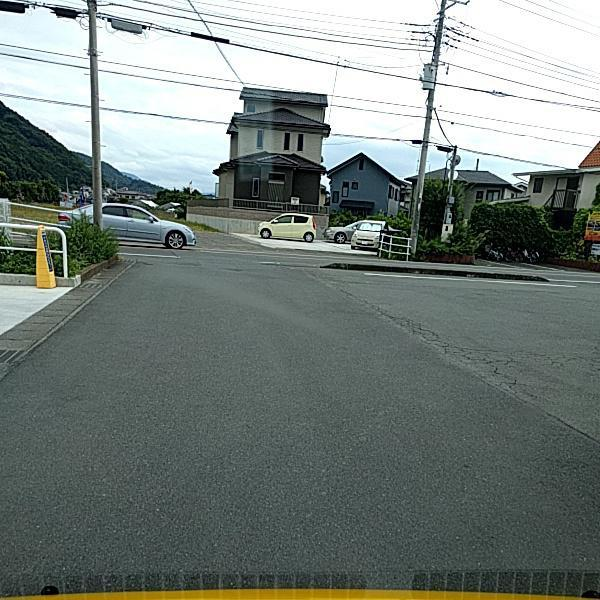D20: (355, 285, 533, 398)
